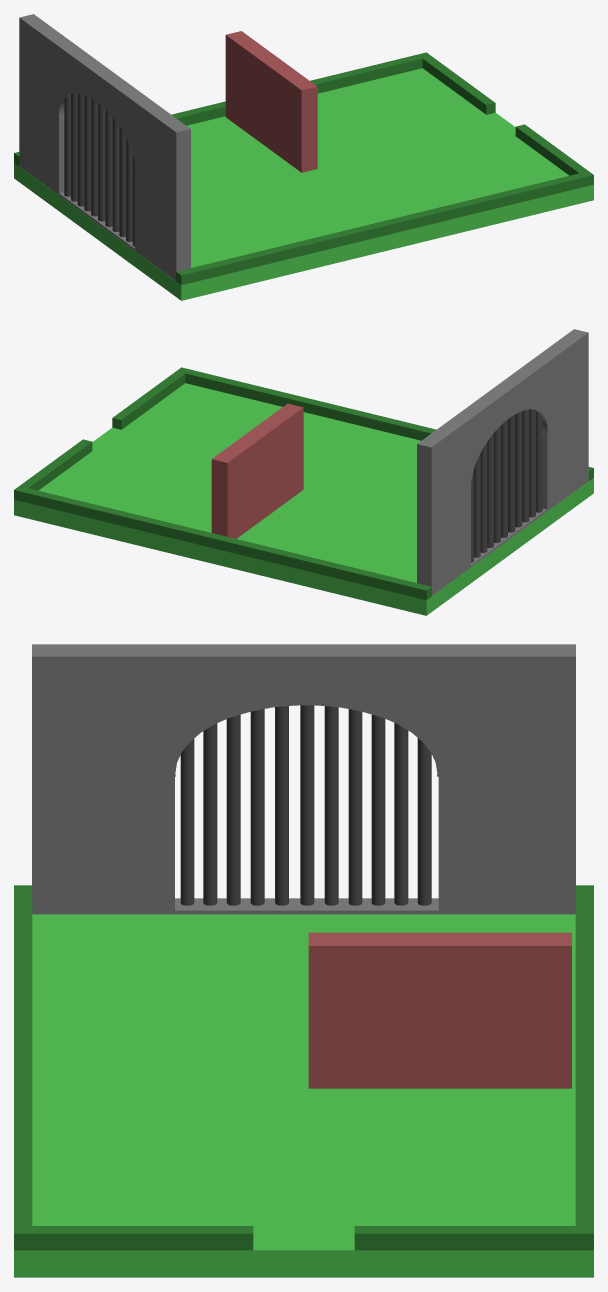
The picture shows the model from 3 angles, top to bottom: view 1: azimuth 30°, elevation 25°; view 2: azimuth 150°, elevation 25°; view 3: azimuth 270°, elevation 25°; orthographic projection. The views are drawn at different scales.
Visible parts, largest first — view 1: pCube7, pCube6, pCube8, pasted__pCylinder2; view 2: pCube7, pCube6, pCube8, pasted__pCylinder2; view 3: pCube7, pCube6, pCube8, pasted__pCylinder2.
Boxes of the visible parts, x1=… form: pCube7: x1=14, y1=52, x2=593, y2=300; pCube6: x1=19, y1=14, x2=190, y2=280; pCube8: x1=225, y1=31, x2=317, y2=172; pasted__pCylinder2: x1=64, y1=93, x2=135, y2=246; pCube7: x1=14, y1=367, x2=593, y2=615; pCube6: x1=417, y1=329, x2=588, y2=595; pCube8: x1=211, y1=403, x2=303, y2=538; pasted__pCylinder2: x1=471, y1=409, x2=542, y2=562; pCube7: x1=14, y1=885, x2=593, y2=1277; pCube6: x1=32, y1=644, x2=575, y2=914; pCube8: x1=308, y1=932, x2=571, y2=1088; pasted__pCylinder2: x1=180, y1=705, x2=431, y2=905.
Size of the model in its own units: 22.4 by 8.54 by 15.75.
